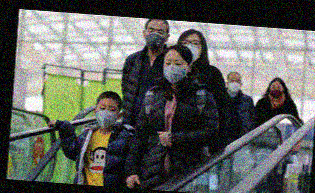with_mask: (161, 56, 190, 85), (93, 101, 119, 129), (144, 25, 168, 51), (179, 36, 203, 62), (224, 76, 241, 93), (268, 82, 284, 100)
